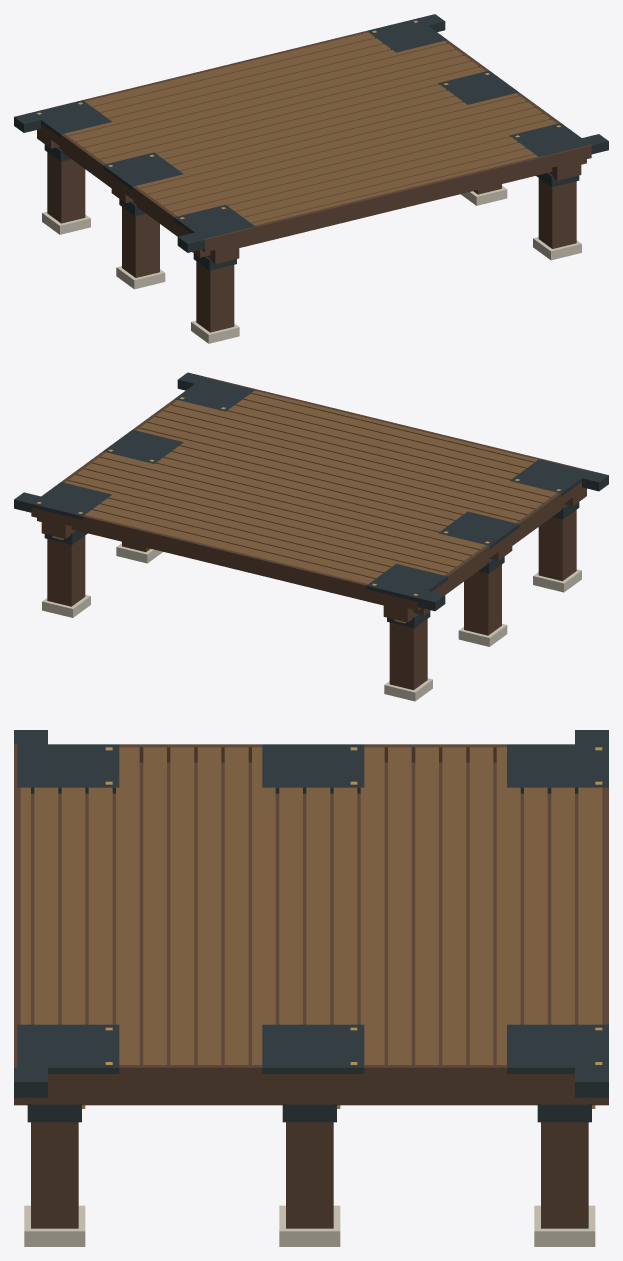
3 views of the same model, one above another, from view 1: azimuth 30°, elevation 25°; view 2: azimuth 150°, elevation 25°; view 3: azimuth 270°, elevation 25° (orthographic). The views are drawn at different scales.
Visible parts, largest first — view 1: 旧渡口木栈台; view 2: 旧渡口木栈台; view 3: 旧渡口木栈台.
Boxes of the visible parts, bbox=[...] form: 旧渡口木栈台: bbox=[14, 14, 608, 343]; 旧渡口木栈台: bbox=[14, 372, 608, 701]; 旧渡口木栈台: bbox=[14, 730, 608, 1246].
Size of the model in its own units: 9.8 by 2.4 by 7.
5 materials, 5 textured.
